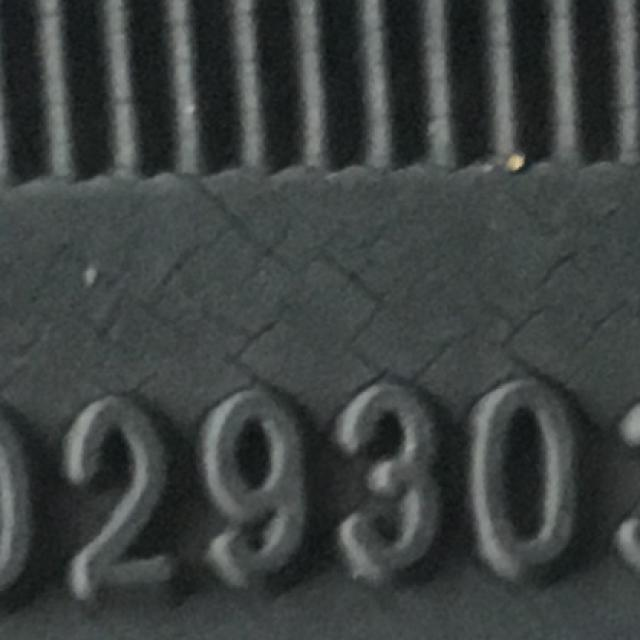Cracks: (0, 141, 638, 426)
